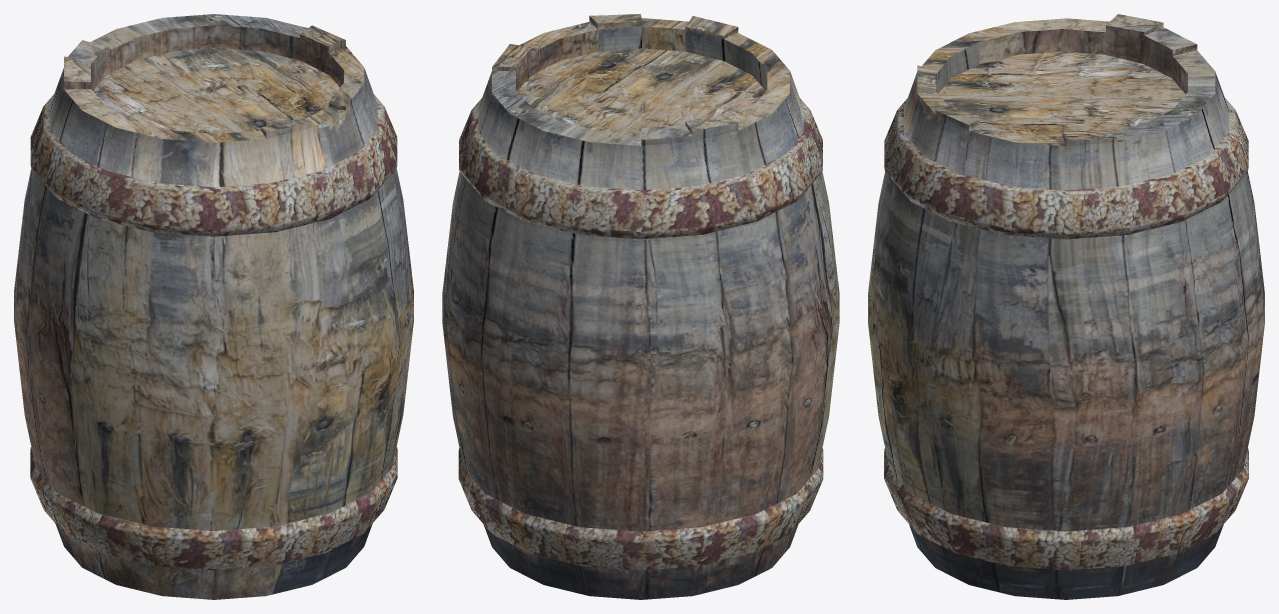
The model's file is Barrel_Rum.FBX.
3 renders of one model, left to right at view 1: azimuth 30°, elevation 25°; view 2: azimuth 150°, elevation 25°; view 3: azimuth 270°, elevation 25°, orthographic.
Visible parts, largest first — view 1: Barrel2; view 2: Barrel2; view 3: Barrel2.
Boxes of the visible parts, x1,y1,x2,y2 form: Barrel2: [14, 14, 413, 599]; Barrel2: [442, 14, 839, 599]; Barrel2: [868, 14, 1264, 599].
Size of the model in its own units: 1.43 by 1.82 by 1.41.
Materials: 1 (1 with a texture image).
